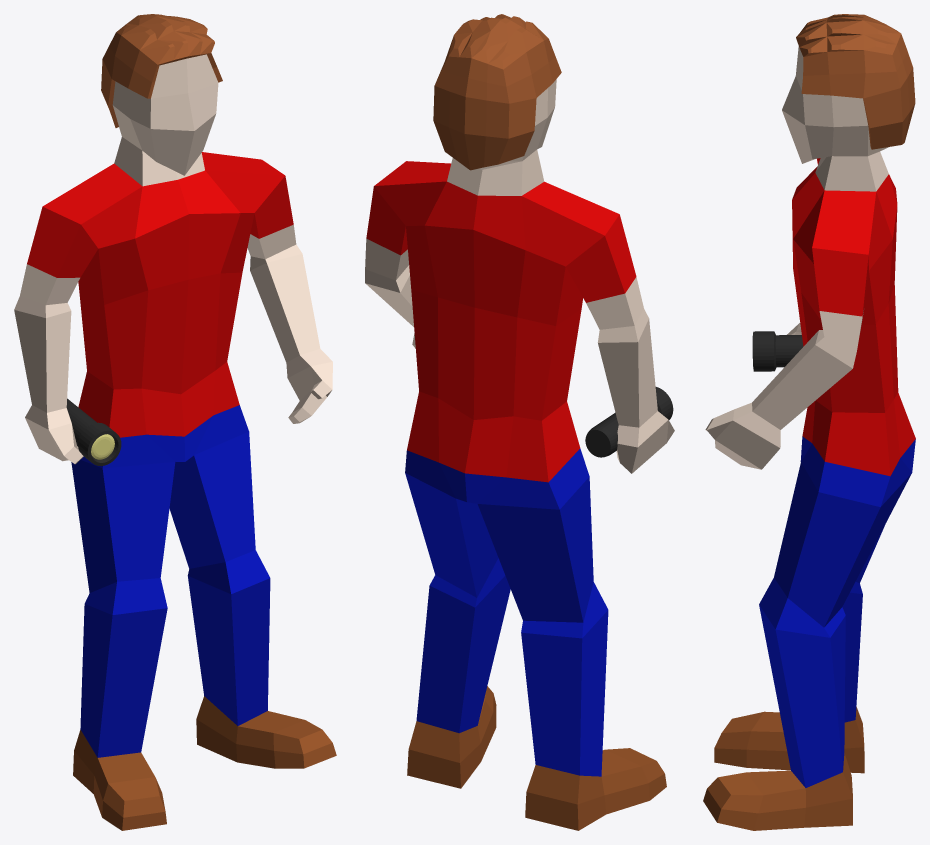
The model's file is Human_grabbing_7.fbx.
The picture shows the model from 3 angles, left to right: view 1: azimuth 30°, elevation 25°; view 2: azimuth 150°, elevation 25°; view 3: azimuth 270°, elevation 25°; orthographic projection. The views are drawn at different scales.
Visible parts, largest first — view 1: Person.003, Cylinder.002; view 2: Person.003, Cylinder.002; view 3: Person.003, Cylinder.002.
Part boxes in pixels (x1,y1,x2,y2): Person.003: (14, 14, 336, 830); Cylinder.002: (66, 398, 121, 465); Person.003: (365, 14, 674, 830); Cylinder.002: (585, 387, 673, 457); Person.003: (703, 14, 915, 830); Cylinder.002: (752, 331, 803, 371).
Bounding box in the file's own units: 0.5879 × 1.58 × 0.3918.
